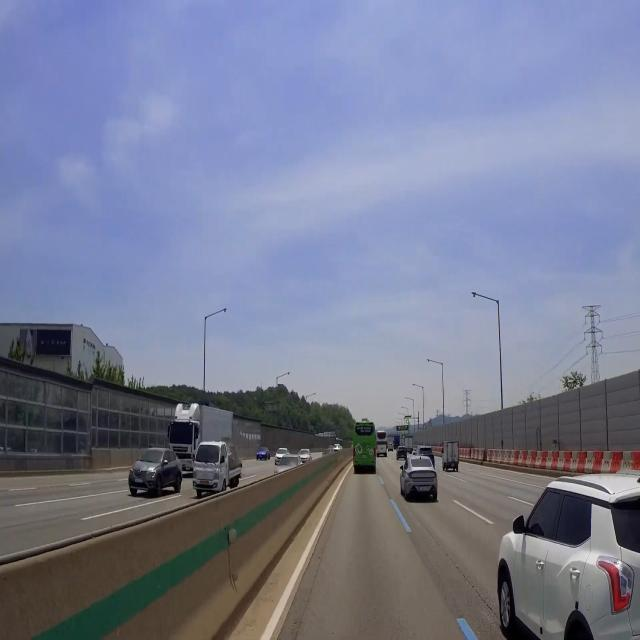car: (130, 474, 145, 493), (197, 476, 214, 490), (417, 483, 434, 495), (358, 454, 371, 462), (450, 460, 456, 472)
